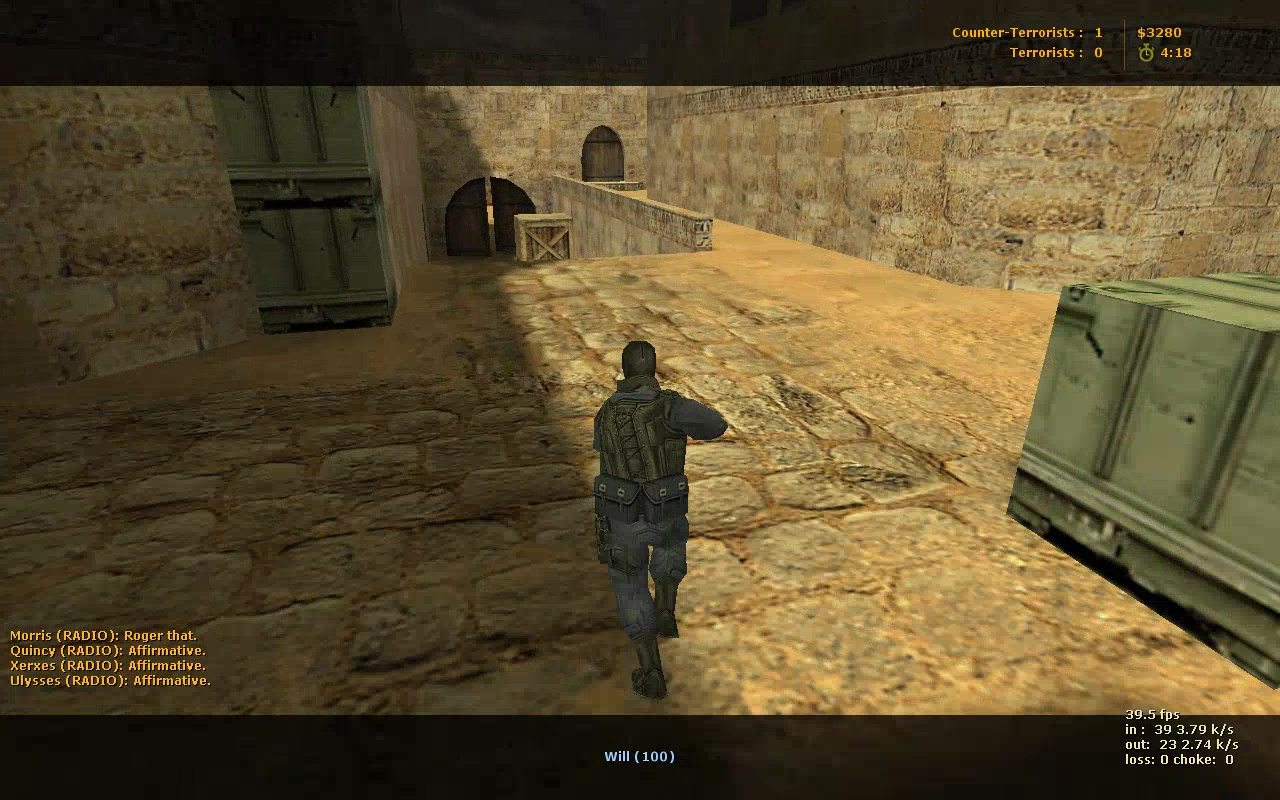ct: (586, 339, 728, 701)
